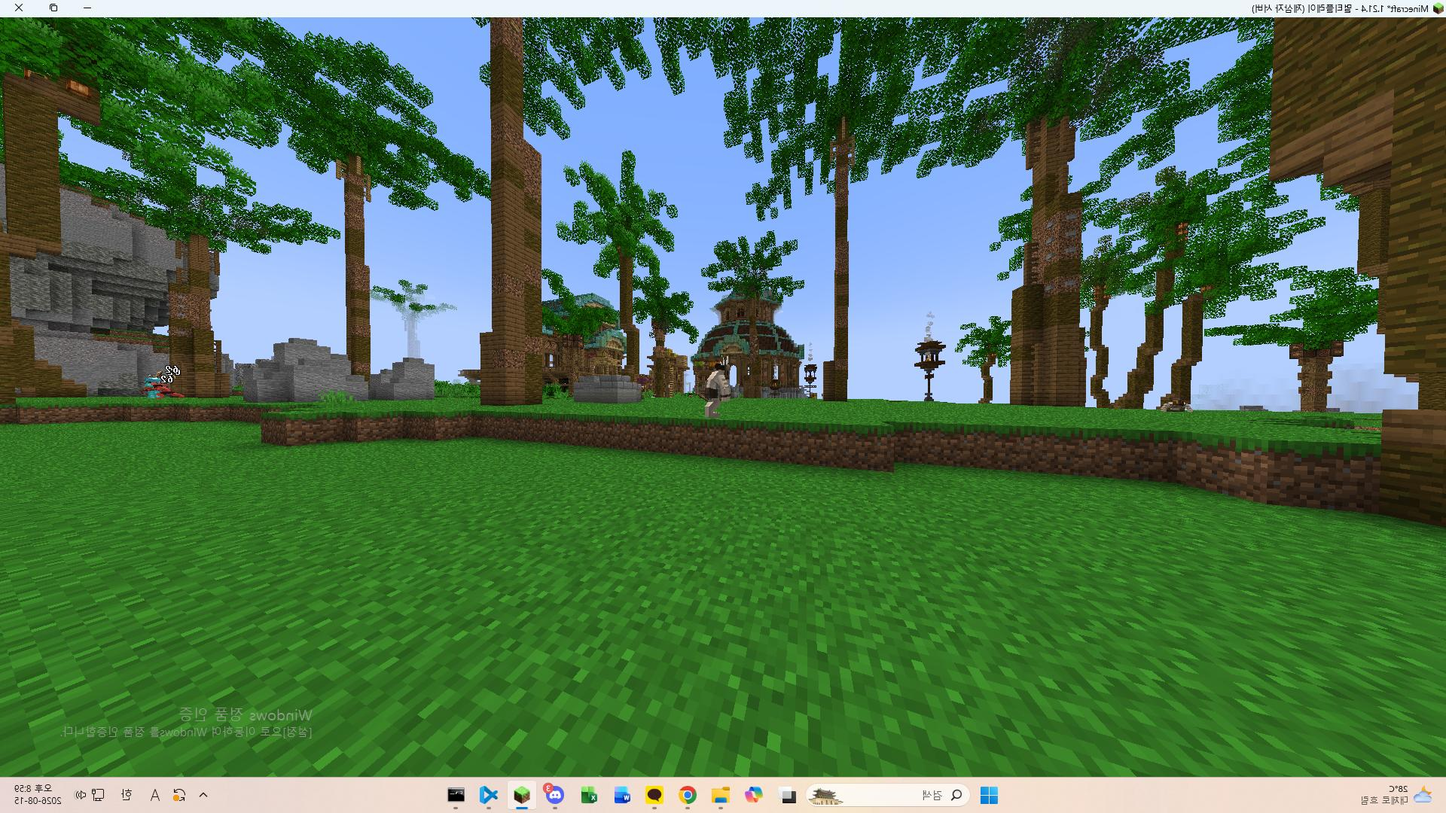bow_indian: (691, 353, 738, 425)
